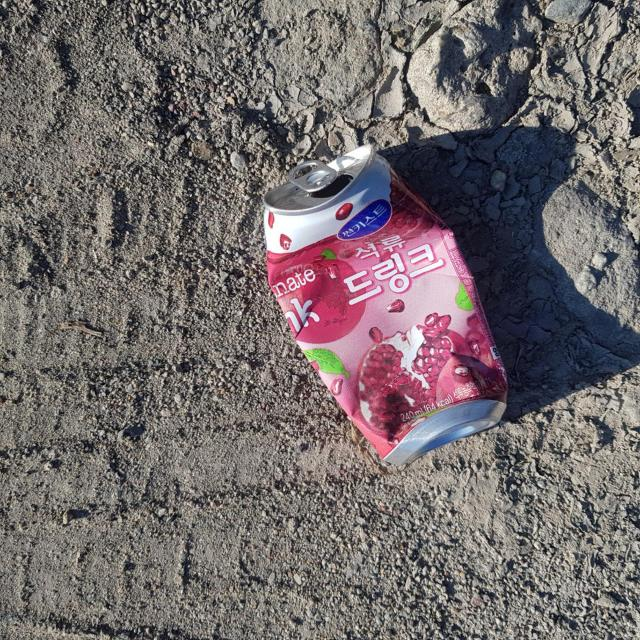can: (263, 145, 508, 466)
